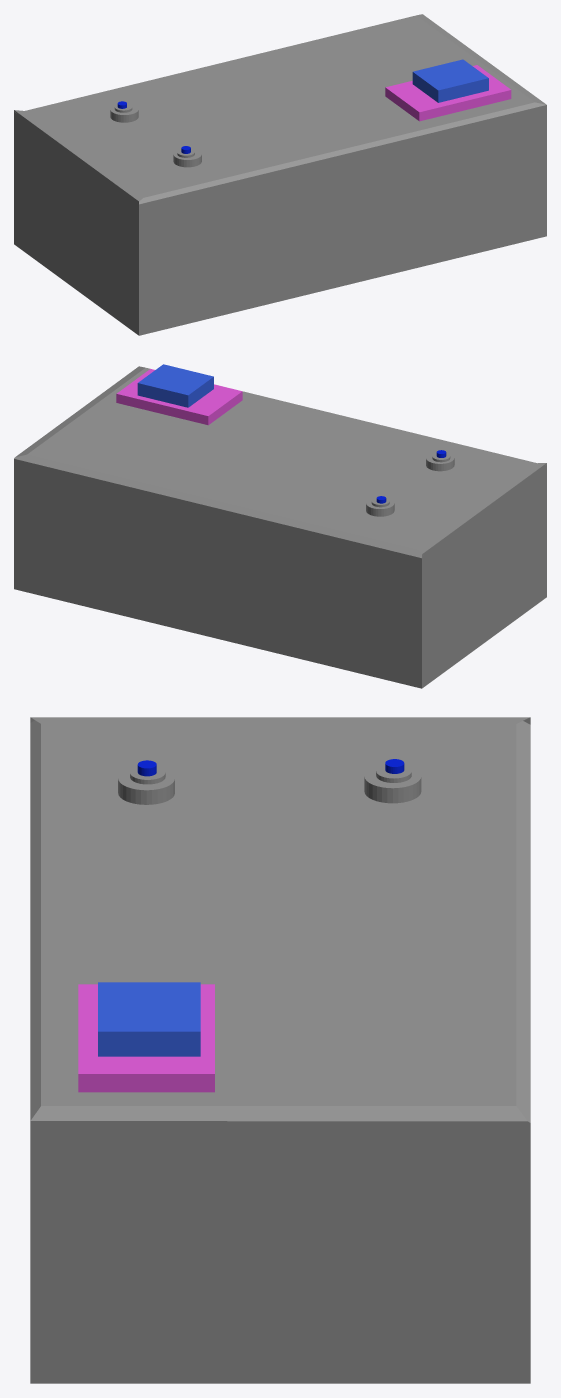
Rendered from Taster.mitTextur.blend.fbx.
The picture shows the model from 3 angles, top to bottom: view 1: azimuth 30°, elevation 25°; view 2: azimuth 150°, elevation 25°; view 3: azimuth 270°, elevation 25°; orthographic projection. The views are drawn at different scales.
Visible parts, largest first — view 1: Zylinder.002; view 2: Zylinder.002; view 3: Zylinder.002.
Part boxes in pixels (x1,y1,x2,y2): Zylinder.002: [14, 14, 546, 335]; Zylinder.002: [14, 364, 546, 688]; Zylinder.002: [30, 717, 530, 1383].
Size of the model in its own units: 591 by 216 by 314.
